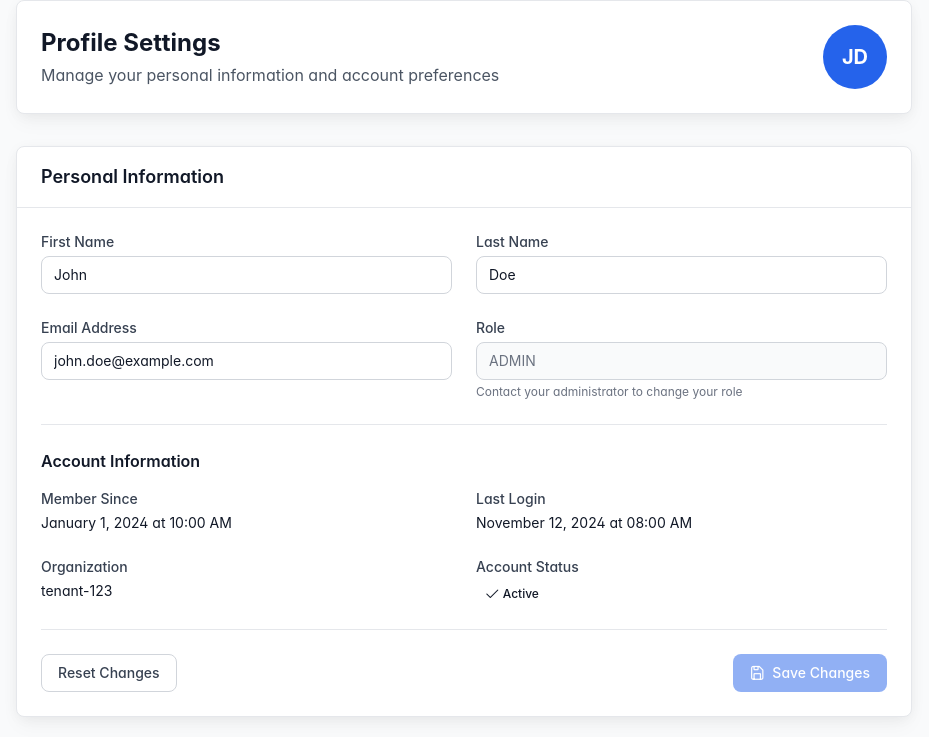
Scenario: ProfileView › Form Changes Detection › should detect changes in form fields
The image size is (929, 737).
Replace the text in the field with id "firstName" with "Jane". click: (246, 275)
box: [41,256,452,294]
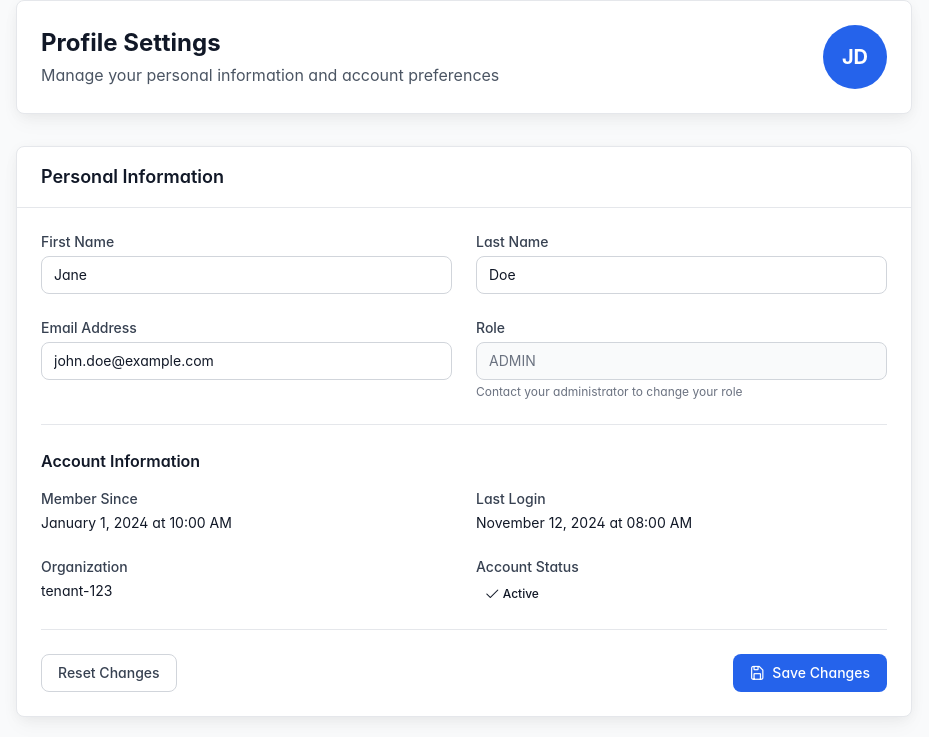
Check: the submit button is enabled, box [733,654,887,692]
